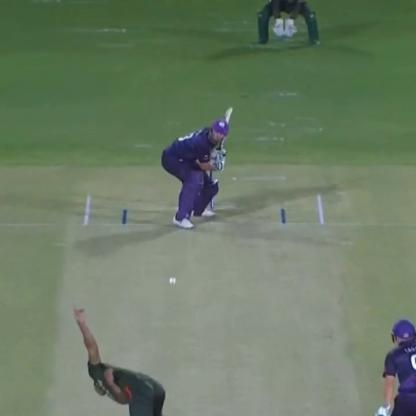ball: (52, 184, 356, 416)
bat: (166, 272, 181, 286)
pitch: (213, 105, 235, 159)
